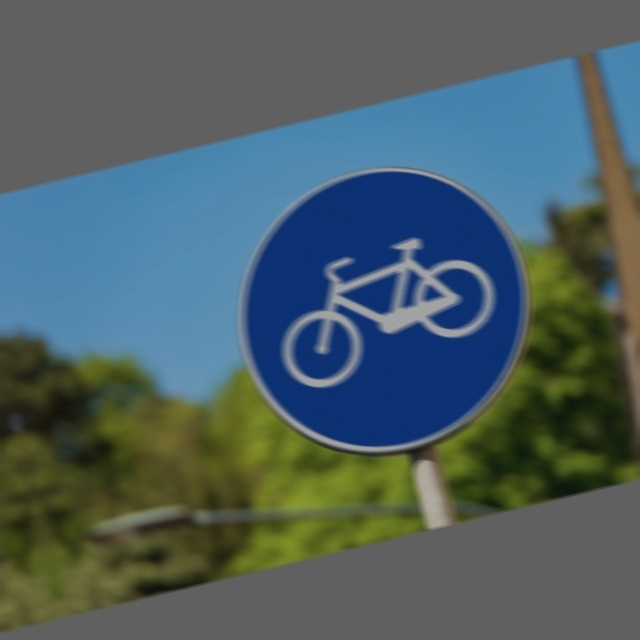Compulsory_Cycle_Track: (209, 137, 562, 484)
